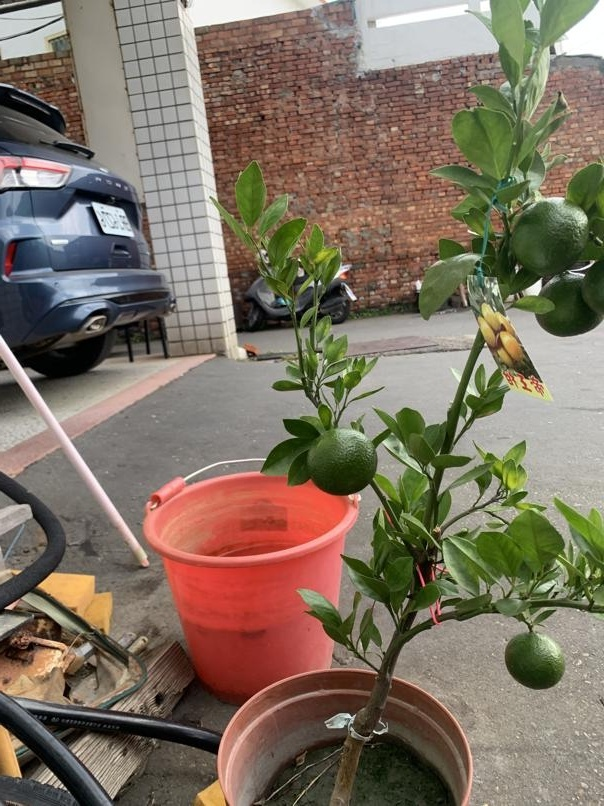Tangerine: (506, 196, 591, 277), (304, 424, 379, 494), (537, 267, 603, 338), (500, 624, 566, 691)
